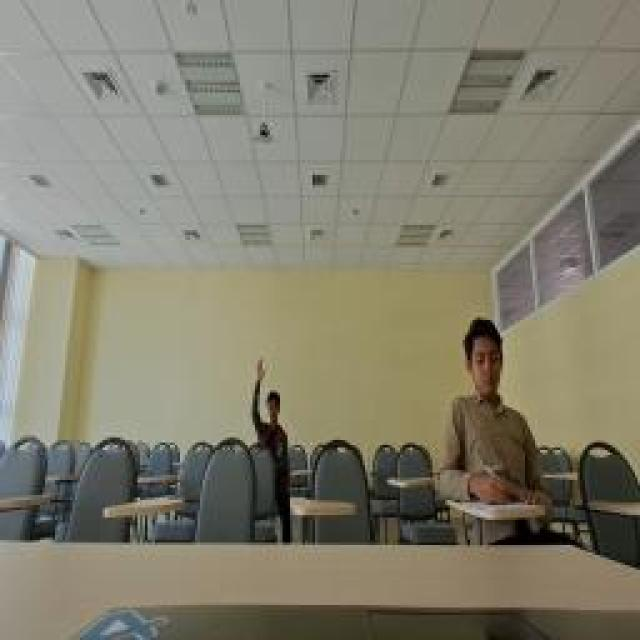study: (438, 317, 548, 505), (252, 355, 290, 470)
